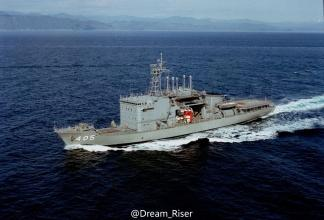warship: (45, 51, 279, 150)
